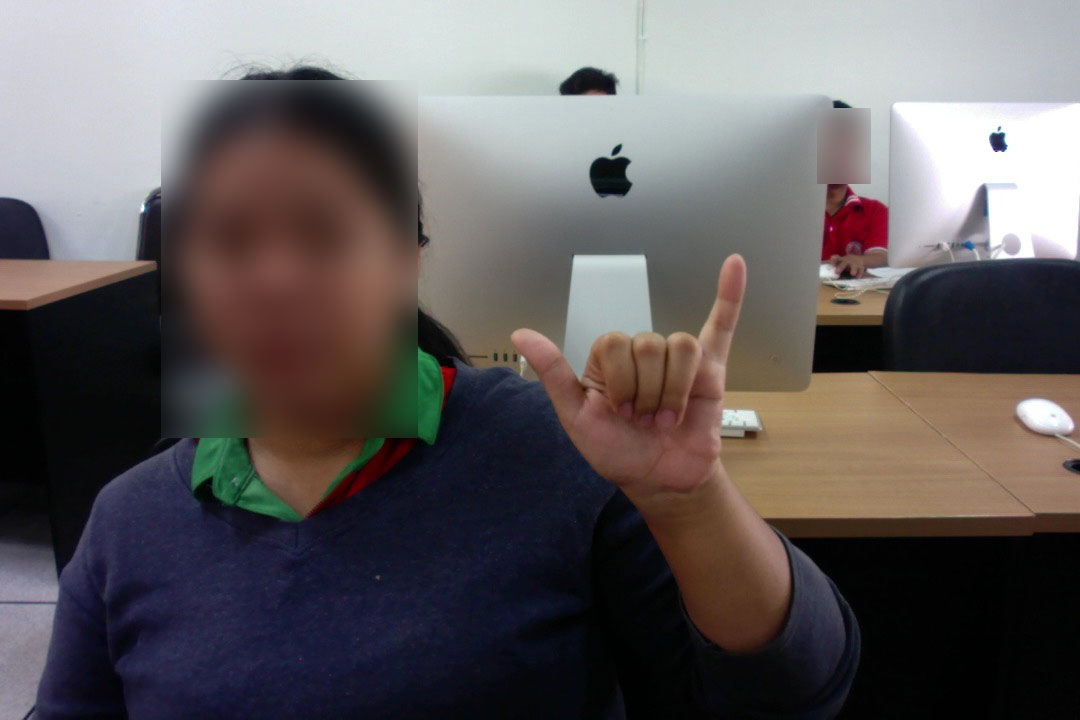yor: (498, 249, 756, 515)
